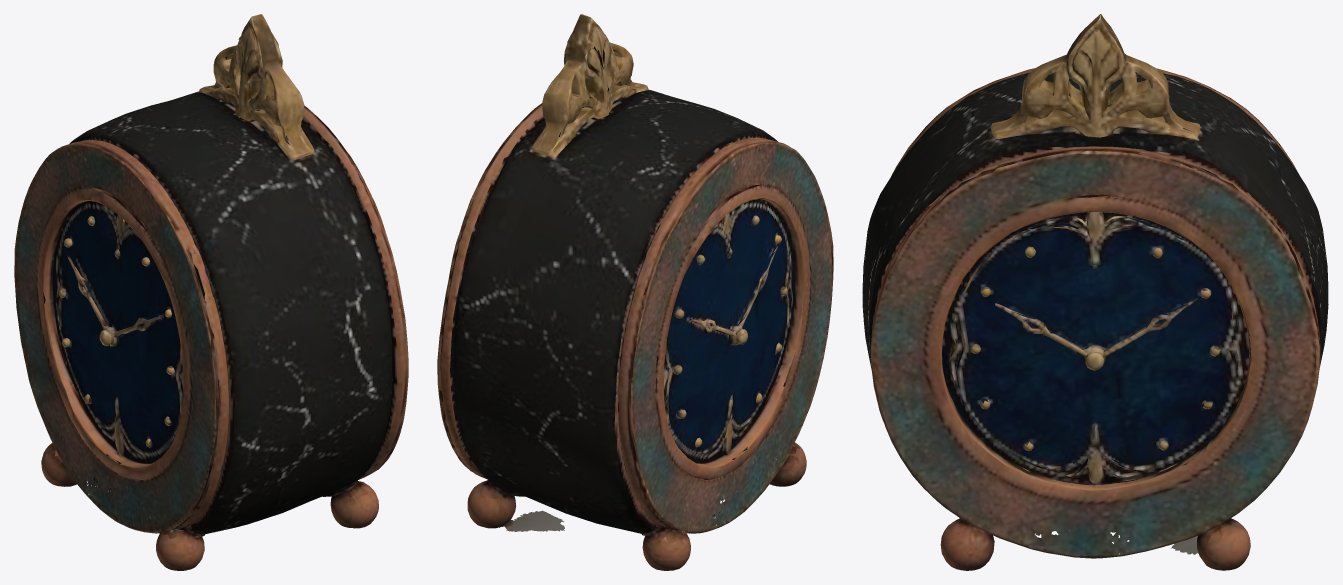
File: HY-08_clock_game.glb
3 views of the same model, side by side, from view 1: azimuth 30°, elevation 25°; view 2: azimuth 150°, elevation 25°; view 3: azimuth 270°, elevation 25° (orthographic). The views are drawn at different scales.
Parts seen in each view (by area): view 1: HY-08_clock; view 2: HY-08_clock; view 3: HY-08_clock.
Boxes of the visible parts, x1,y1,x2,y2 form: HY-08_clock: (14, 14, 408, 570); HY-08_clock: (437, 14, 833, 570); HY-08_clock: (862, 14, 1328, 570).
Bounding box in the file's own units: 0.155 × 0.32 × 0.2567.
1 material, 1 textured.
